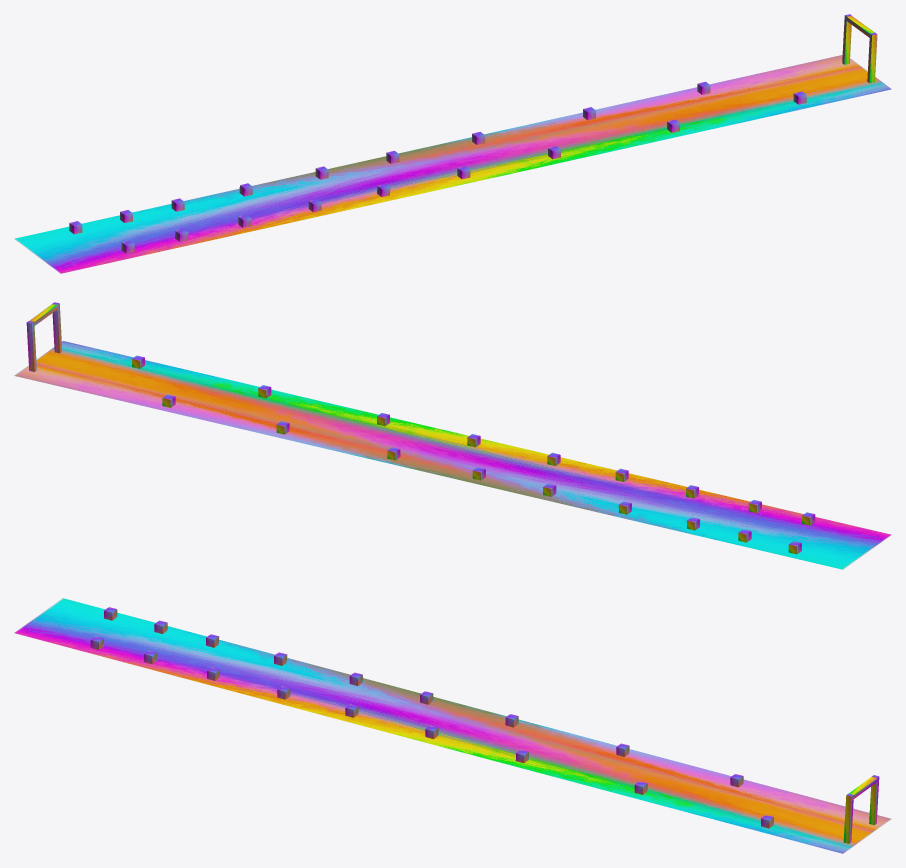
File: stage.obj
The picture shows the model from 3 angles, top to bottom: view 1: azimuth 30°, elevation 25°; view 2: azimuth 150°, elevation 25°; view 3: azimuth 330°, elevation 25°; orthographic projection.
Visible parts, largest first — view 1: 平面; view 2: 平面; view 3: 平面.
Part boxes in pixels (x1,y1,x2,y2): 平面: [14, 14, 891, 273]; 平面: [14, 302, 891, 569]; 平面: [14, 598, 891, 853].
Size of the model in its own units: 60.07 by 3.33 by 6.64.
Materials: 1 (1 with a texture image).
